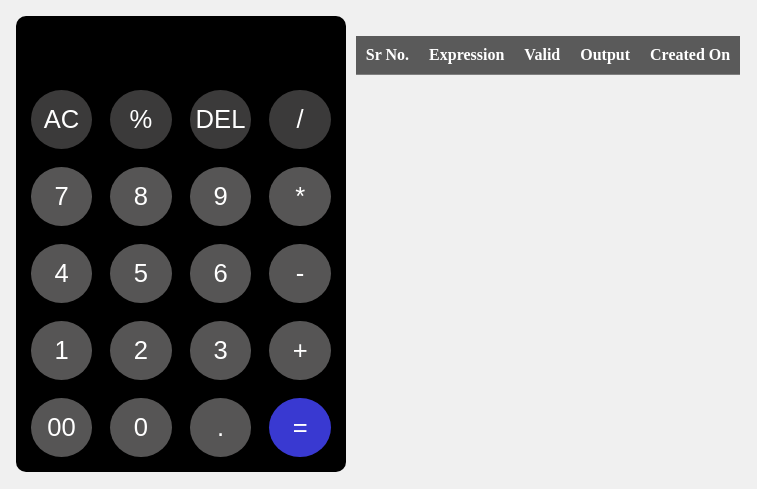
Test: Calculator Component › shows error for invalid expression
Click the button "5" at (141, 274), box [110, 244, 172, 303]
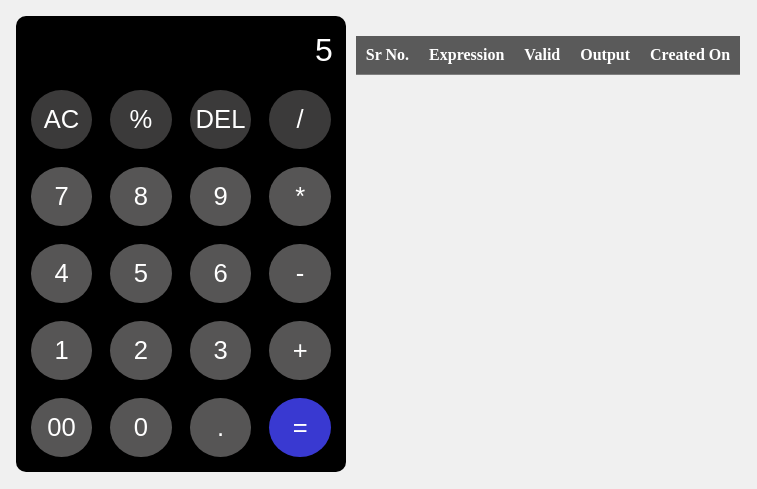
Click the button "+" at (300, 350), box [269, 321, 331, 380]
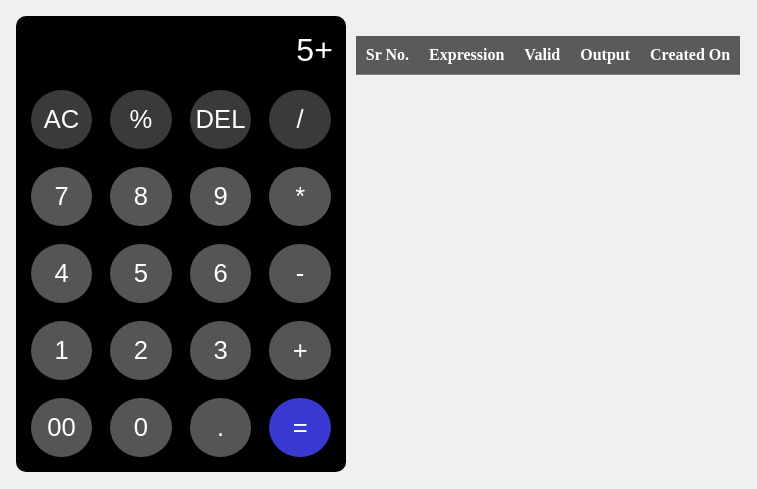
Click the button "=" at (300, 428), box [269, 398, 331, 457]
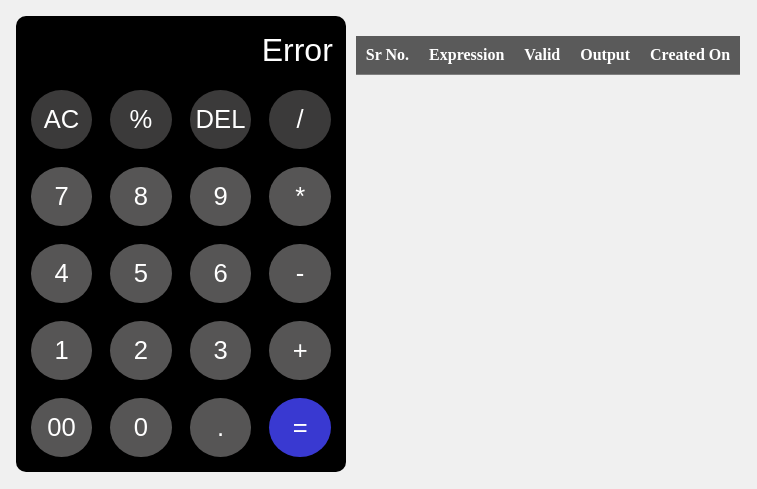
Now the field holds "Error", box [31, 31, 335, 70]
